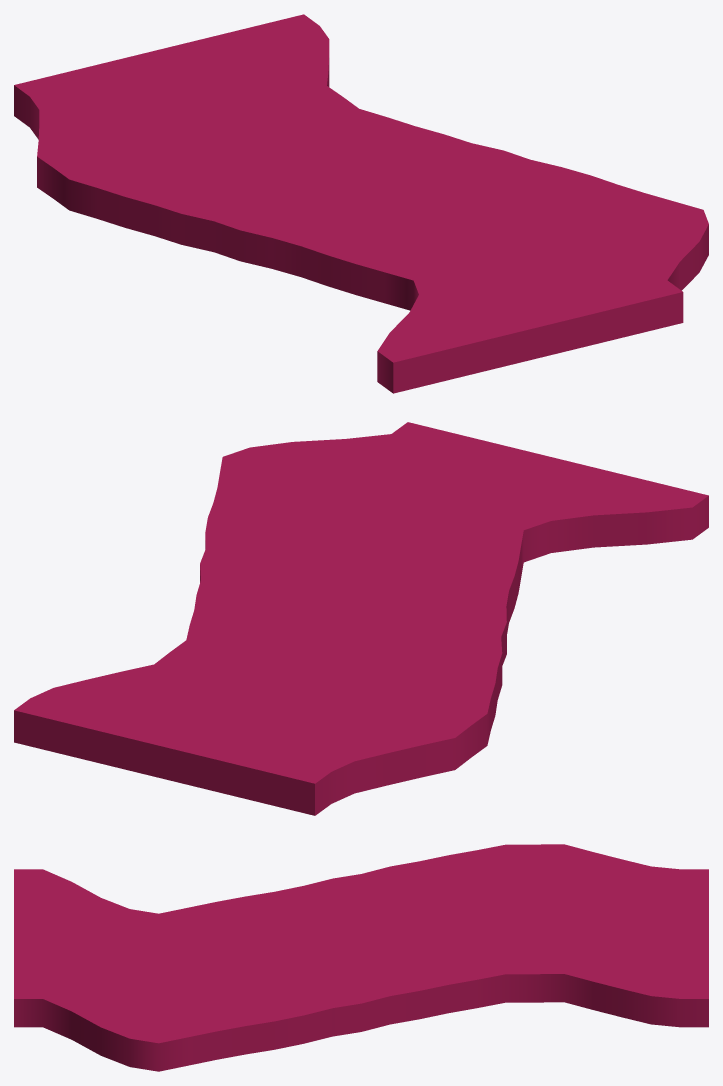
The model's file is Wall2.obj.
3 views of the same model, one above another, from view 1: azimuth 30°, elevation 25°; view 2: azimuth 150°, elevation 25°; view 3: azimuth 270°, elevation 25° (orthographic). The views are drawn at different scales.
Visible parts, largest first — view 1: Box002; view 2: Box002; view 3: Box002.
Boxes of the visible parts, x1,y1,x2,y2 form: Box002: (14, 14, 708, 393); Box002: (14, 422, 708, 815); Box002: (14, 844, 708, 1071).
Bounding box in the file's own units: 13.72 × 0.9116 × 20.24.
